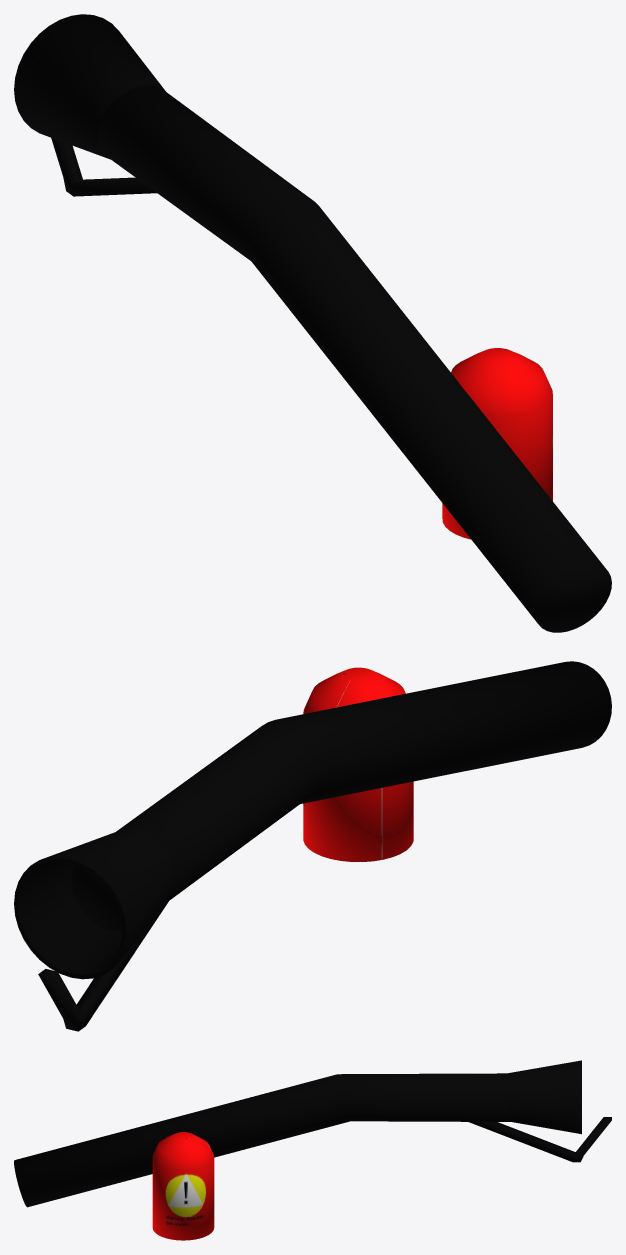
File: flamethrower.fbx
3 renders of one model, top to bottom at view 1: azimuth 30°, elevation 25°; view 2: azimuth 150°, elevation 25°; view 3: azimuth 270°, elevation 25°, orthographic. The views are drawn at different scales.
Parts seen in each view (by area): view 1: Cylinder; view 2: Cylinder; view 3: Cylinder.
Boxes of the visible parts, <box> form: Cylinder: <box>14,14,611,632</box>; Cylinder: <box>14,661,611,1031</box>; Cylinder: <box>14,1060,611,1240</box>.
Size of the model in its own units: 133 by 189 by 706.
2 materials, 1 textured.
